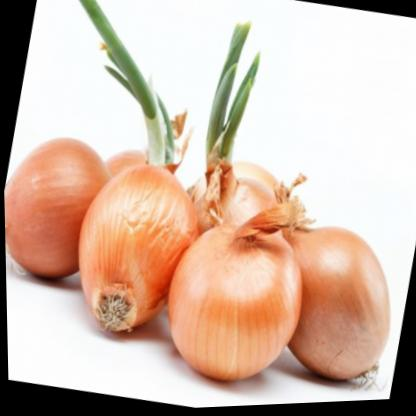onion: (140, 175, 318, 411), (48, 143, 212, 363), (245, 199, 414, 405), (2, 117, 117, 296)
